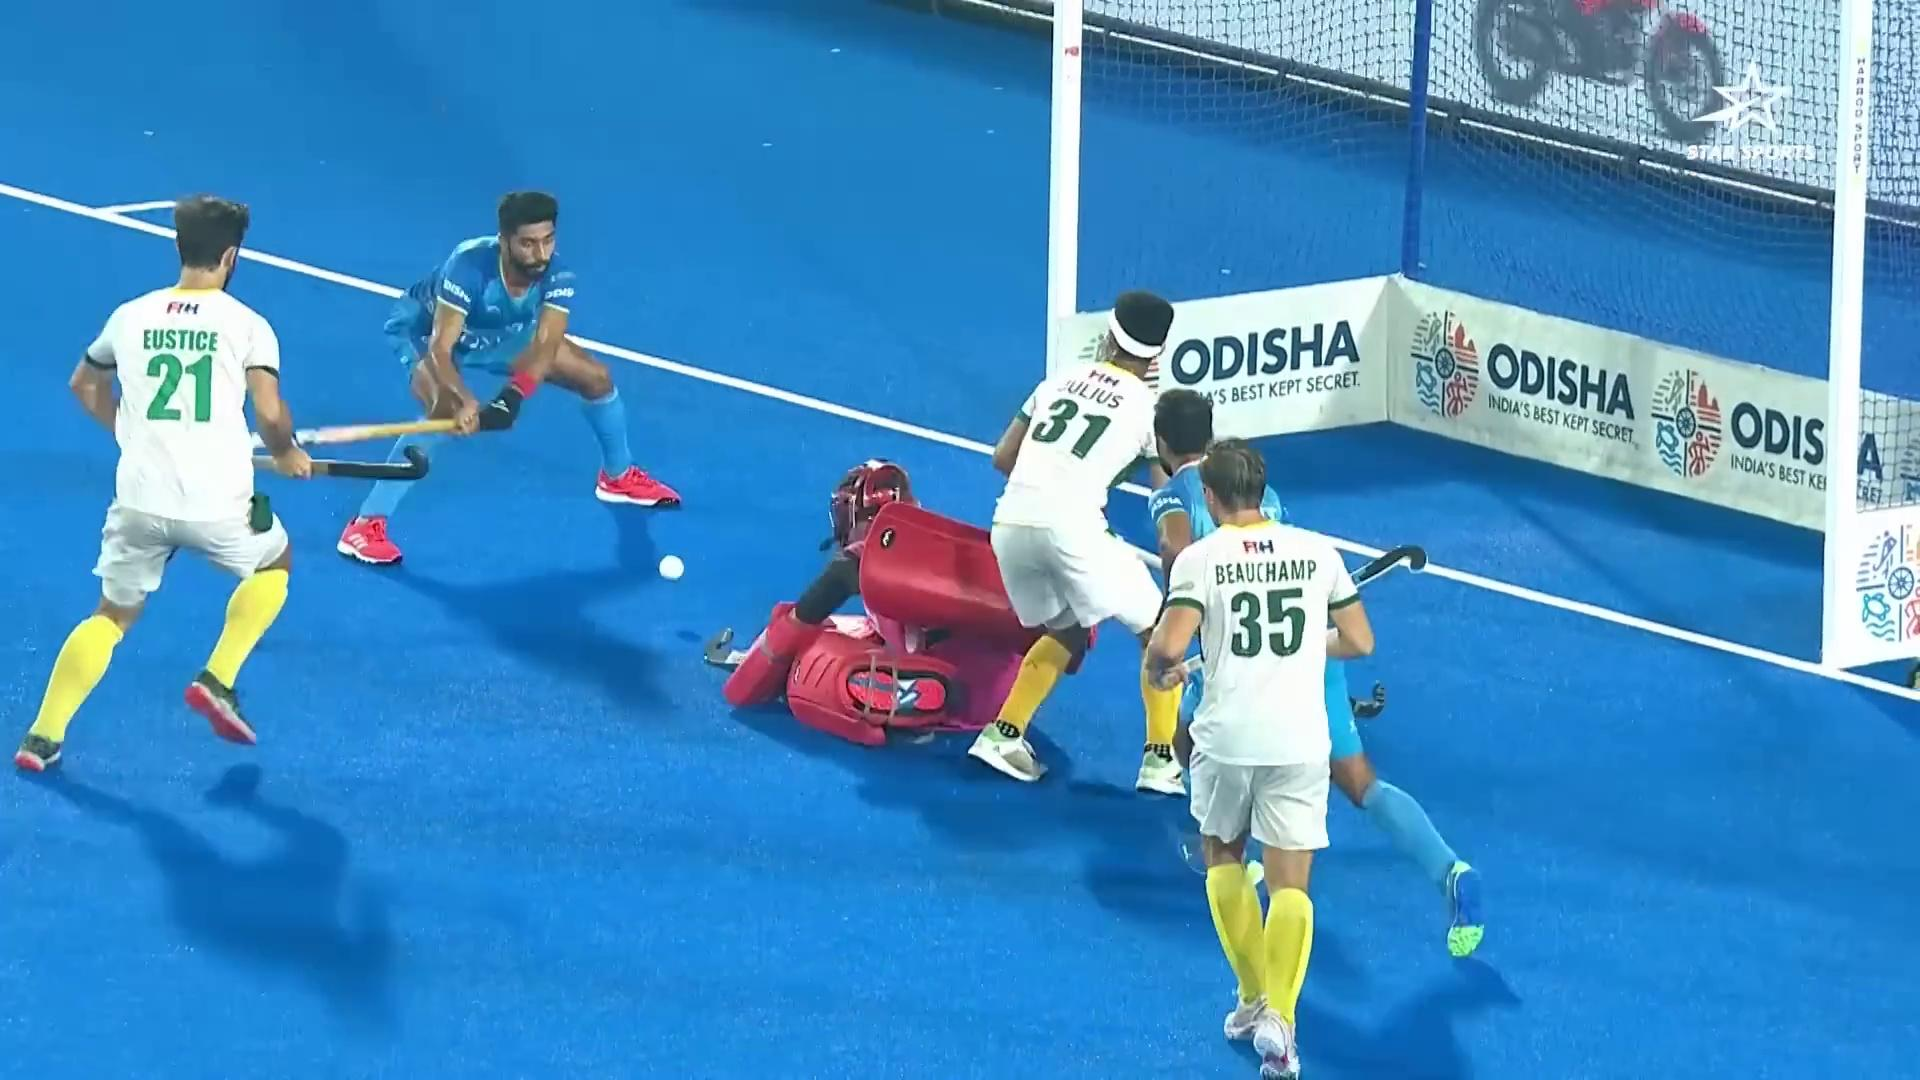ball: (638, 545, 703, 588)
